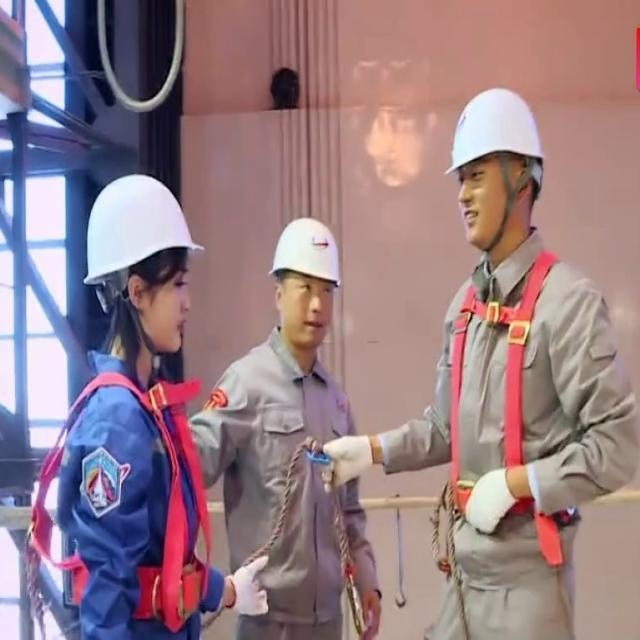Arnes_seguridad: (22, 369, 215, 639), (437, 241, 585, 548)
